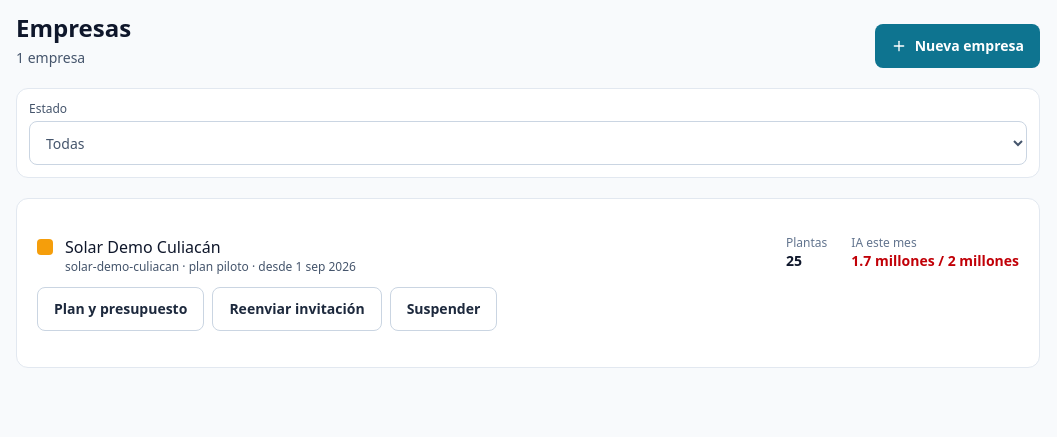
Test case: empresas (superadmin) › muestra plantas y uso de IA; suspende con confirmación
expect the text "Solar Demo Culiacán" is shown: met, box [65, 236, 221, 258]
expect the text "25" is shown: met, box [786, 251, 802, 270]
Click the button "Suspender" at (443, 309), box [390, 287, 497, 331]
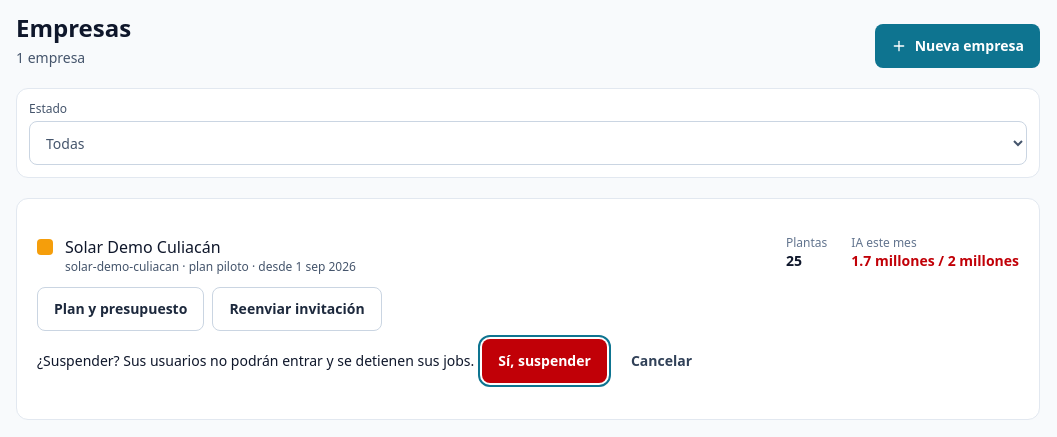
Click the button "Sí, suspender" at (545, 361), box [482, 339, 607, 383]
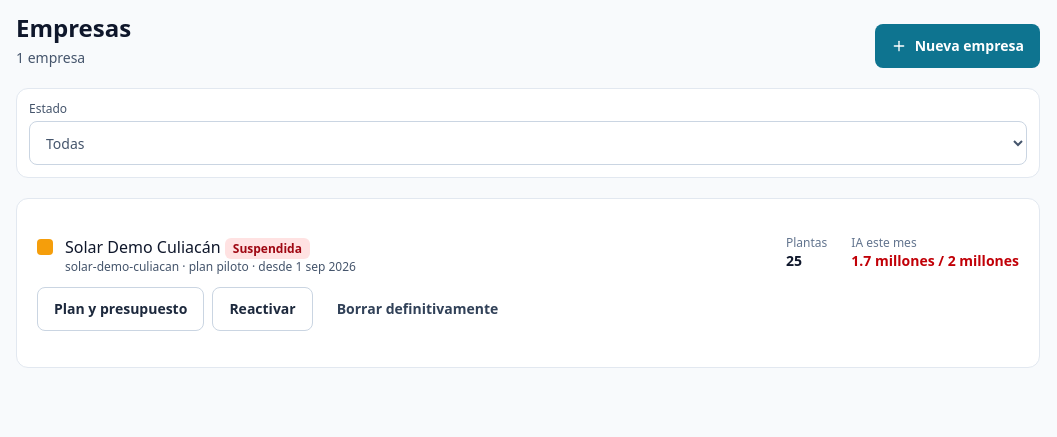
expect the text "Suspendida" is shown: met, box [225, 238, 310, 259]
expect the button "Reactivar" is shown: met, box [212, 287, 313, 331]
